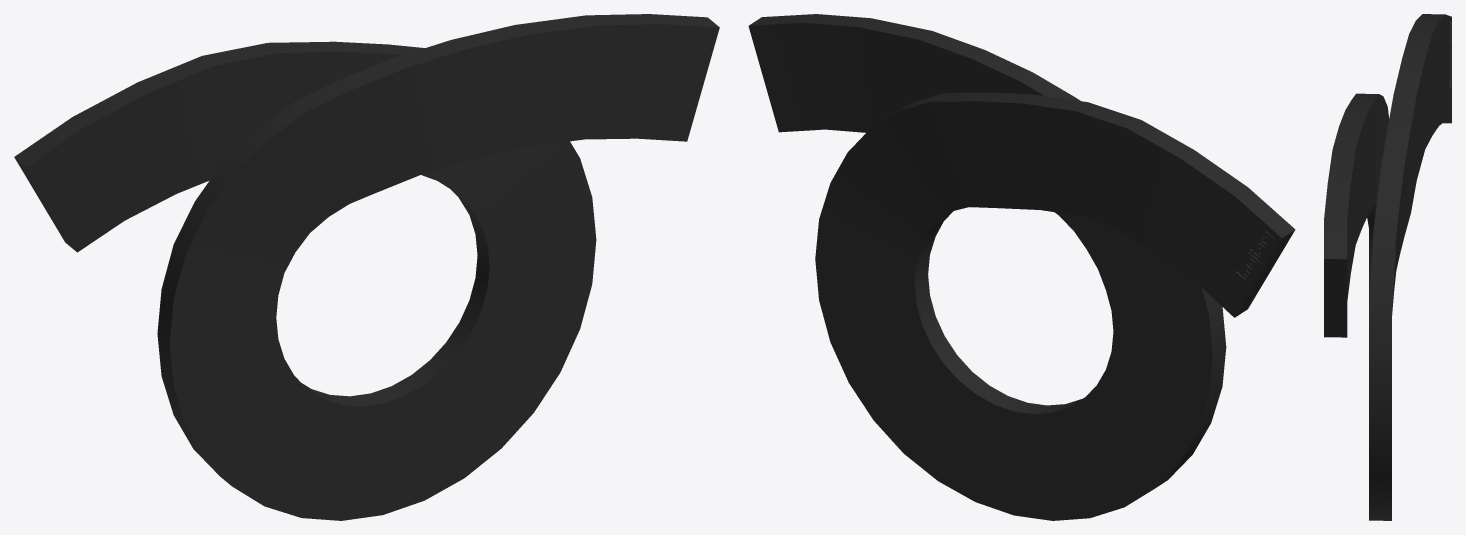
Rendered from curly_loop.glb.
The picture shows the model from 3 angles, left to right: view 1: azimuth 30°, elevation 25°; view 2: azimuth 150°, elevation 25°; view 3: azimuth 270°, elevation 25°; orthographic projection. The views are drawn at different scales.
Visible parts, largest first — view 1: Circle.2642; view 2: Circle.2642; view 3: Circle.2642.
Boxes of the visible parts, x1,y1,x2,y2 form: Circle.2642: (14, 14, 719, 520); Circle.2642: (748, 14, 1295, 520); Circle.2642: (1324, 14, 1451, 520).
Bounding box in the file's own units: 2.38 × 1.68 × 0.4786.
1 material, 1 textured.
